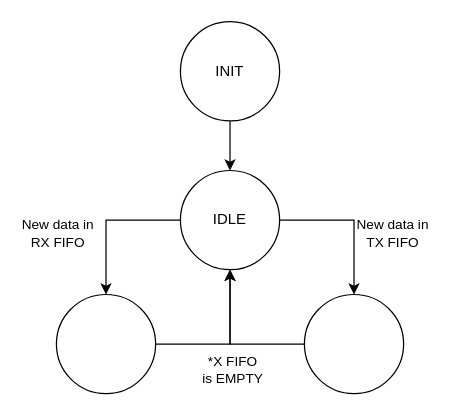
Image size: 449x415. Some labels were removed from this diagram. The shapes that lost their labels are listed below. From the top down, each one's centre as x and y in pixels, then its label:
At (x=105, y=343): "RECEIVE".
At (x=353, y=343): "TRANSMIT".
